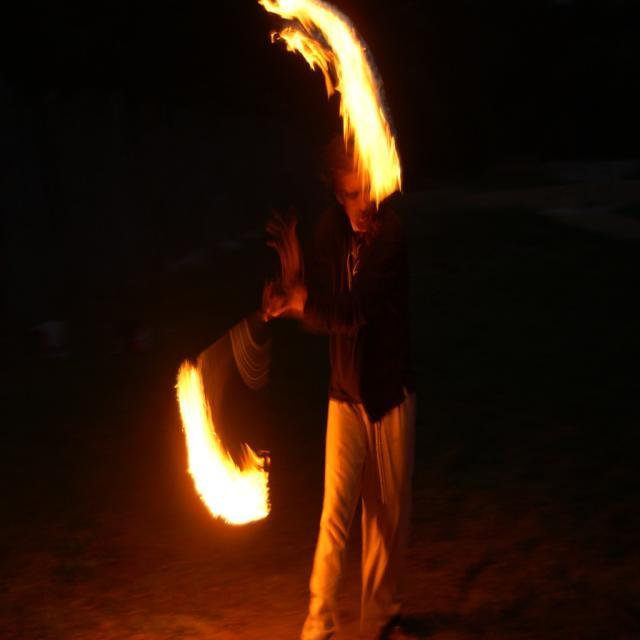Fire: (349, 66, 393, 188), (200, 450, 270, 525)
